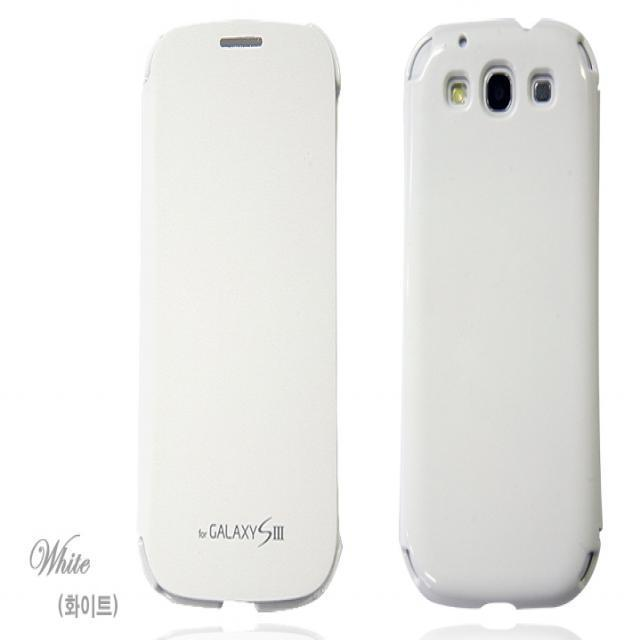phone: (402, 16, 604, 610)
